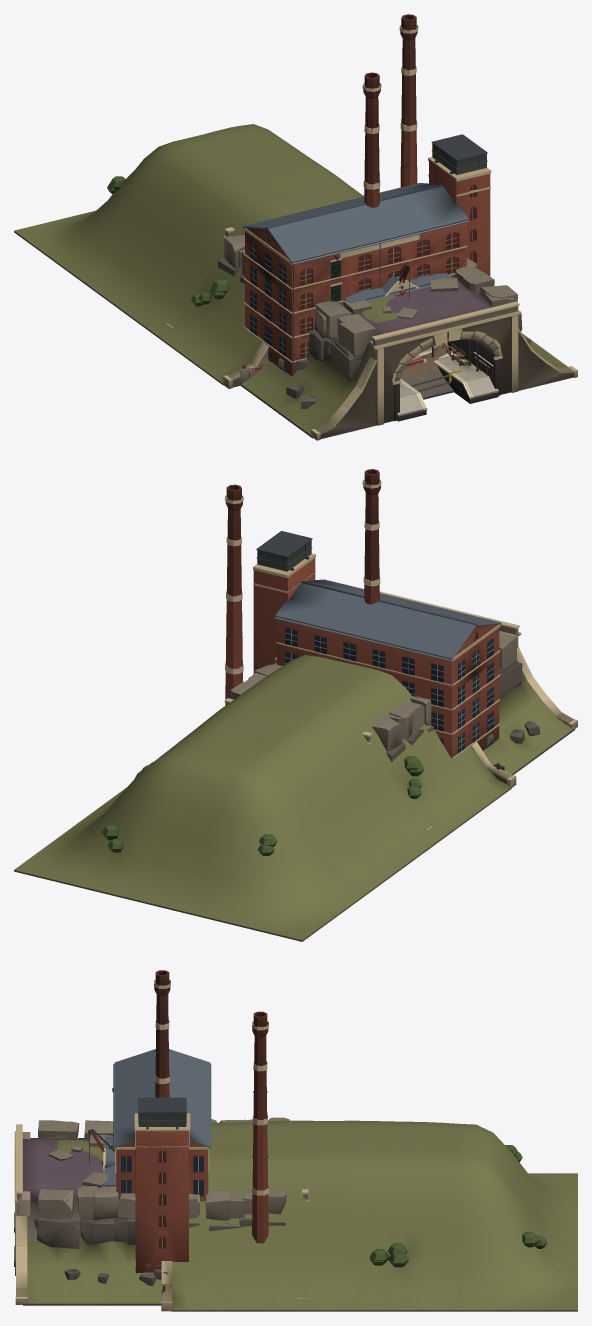
File: works-7bec1931.glb
The picture shows the model from 3 angles, top to bottom: view 1: azimuth 30°, elevation 25°; view 2: azimuth 150°, elevation 25°; view 3: azimuth 270°, elevation 25°; orthographic projection. The views are drawn at different scales.
Visible parts, largest first — view 1: tunnel_rail-mesh, mill_big-mesh, outcrop_a-mesh, outcrop_b-mesh, mill_site-mesh, station_platforms-mesh, chimney-mesh, subsidence-mesh, station_grand-mesh, station_platforms_grand-mesh; view 2: tunnel_rail-mesh, mill_big-mesh, outcrop_b-mesh, outcrop_a-mesh, mill_site-mesh, chimney-mesh; view 3: tunnel_rail-mesh, mill_big-mesh, outcrop_b-mesh, outcrop_a-mesh, mill_site-mesh, chimney-mesh, station_grand-mesh.
Boxes of the visible parts, bbox=[...] form: tunnel_rail-mesh: bbox=[14, 124, 363, 388]; mill_big-mesh: bbox=[242, 134, 491, 376]; outcrop_a-mesh: bbox=[166, 195, 577, 440]; outcrop_b-mesh: bbox=[224, 229, 576, 439]; mill_site-mesh: bbox=[399, 14, 453, 399]; station_platforms-mesh: bbox=[397, 339, 498, 421]; chimney-mesh: bbox=[362, 72, 381, 207]; subsidence-mesh: bbox=[400, 345, 462, 397]; station_grand-mesh: bbox=[343, 273, 453, 360]; station_platforms_grand-mesh: bbox=[397, 340, 493, 418]; tunnel_rail-mesh: bbox=[14, 655, 516, 941]; mill_big-mesh: bbox=[253, 531, 501, 759]; outcrop_b-mesh: bbox=[224, 625, 577, 774]; outcrop_a-mesh: bbox=[225, 591, 577, 830]; mill_site-mesh: bbox=[225, 484, 243, 705]; chimney-mesh: bbox=[362, 469, 381, 604]; tunnel_rail-mesh: bbox=[161, 1120, 577, 1311]; mill_big-mesh: bbox=[112, 1049, 211, 1273]; outcrop_b-mesh: bbox=[15, 1119, 308, 1305]; outcrop_a-mesh: bbox=[14, 1117, 310, 1305]; mill_site-mesh: bbox=[252, 1011, 268, 1243]; chimney-mesh: bbox=[154, 970, 170, 1097]; station_grand-mesh: bbox=[103, 1136, 116, 1186].
Size of the model in its own units: 1.09 by 1 by 1.9.
